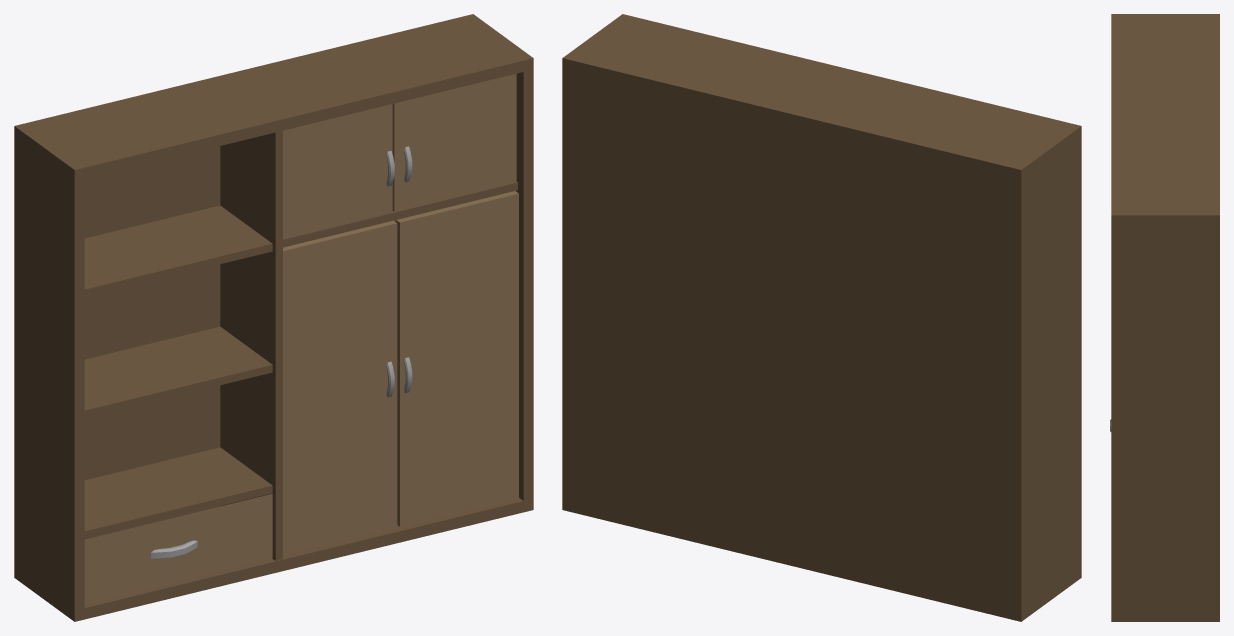
The model's file is 2qdm7DZVG94.glb.
3 renders of one model, left to right at view 1: azimuth 30°, elevation 25°; view 2: azimuth 150°, elevation 25°; view 3: azimuth 270°, elevation 25°, orthographic. The views are drawn at different scales.
Visible parts, largest first — view 1: SM_Closet:SM_Closet1; view 2: SM_Closet:SM_Closet1; view 3: SM_Closet:SM_Closet1.
Boxes of the visible parts, bbox=[...] form: SM_Closet:SM_Closet1: bbox=[14, 14, 533, 621]; SM_Closet:SM_Closet1: bbox=[562, 14, 1081, 621]; SM_Closet:SM_Closet1: bbox=[1110, 14, 1219, 621].
Size of the model in its own units: 1.06 by 1 by 0.2449.
